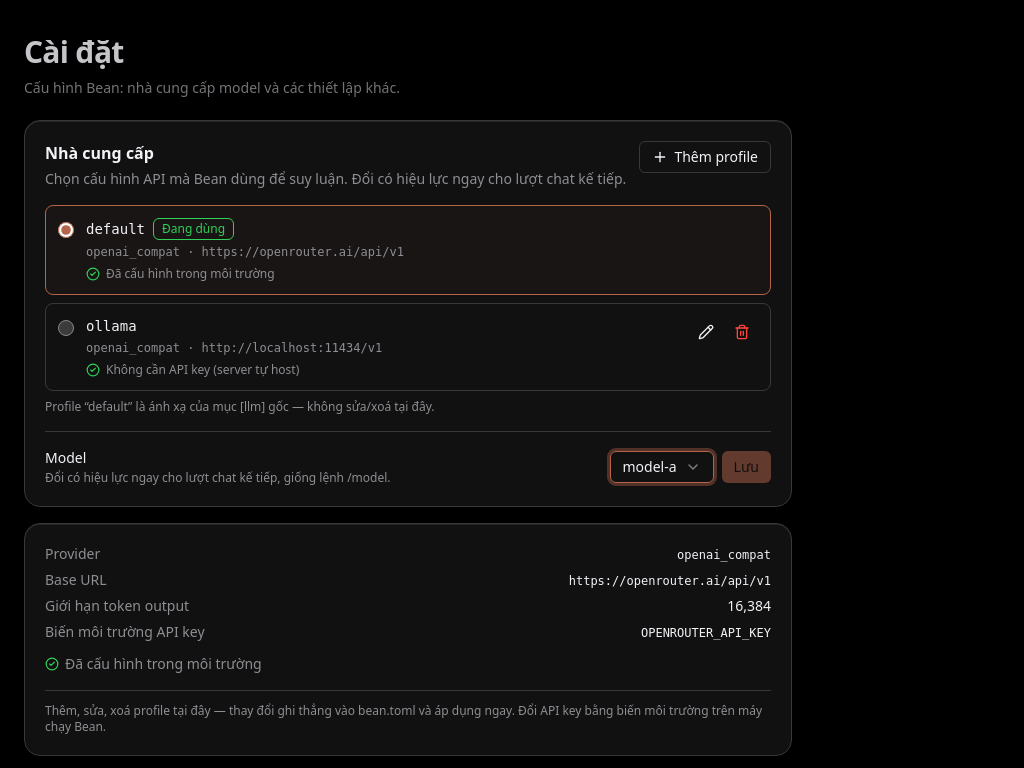
SettingsPage — Providers › chọn model khác rồi Lưu: PUT đúng body, hiện thông báo thành công
The width and height of the screenshot is (1024, 768).
Press Enter
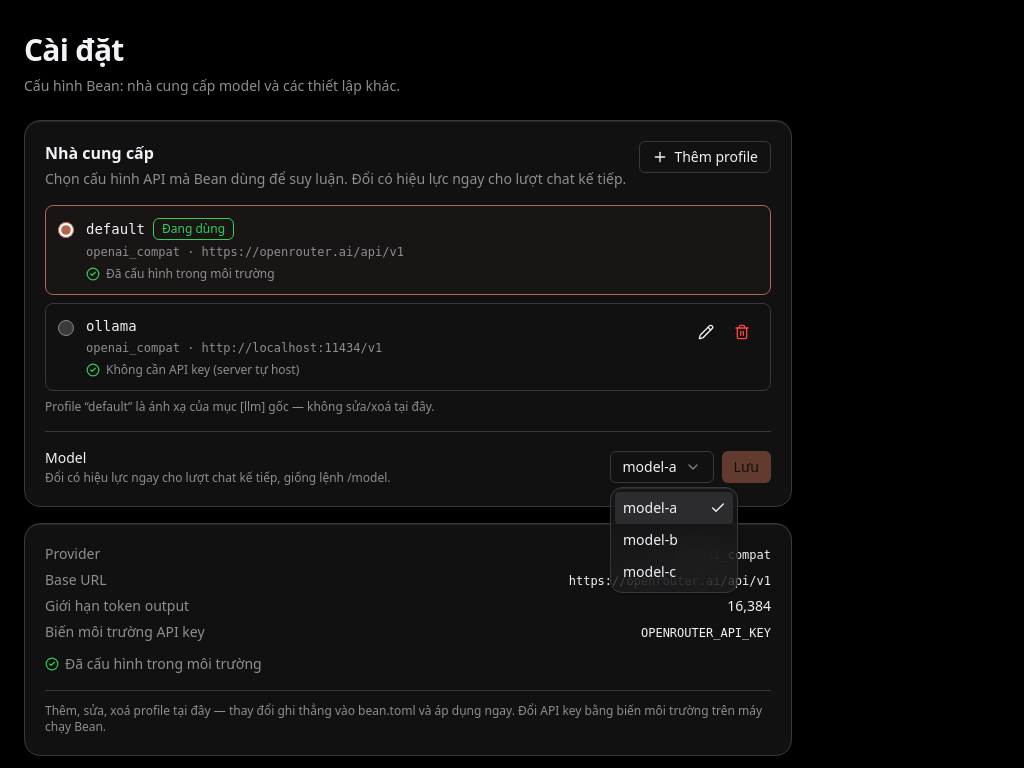
expect the option "model-b" is shown: met
Click the option "model-b".
click(650, 540)  # box [623,530,678,549]
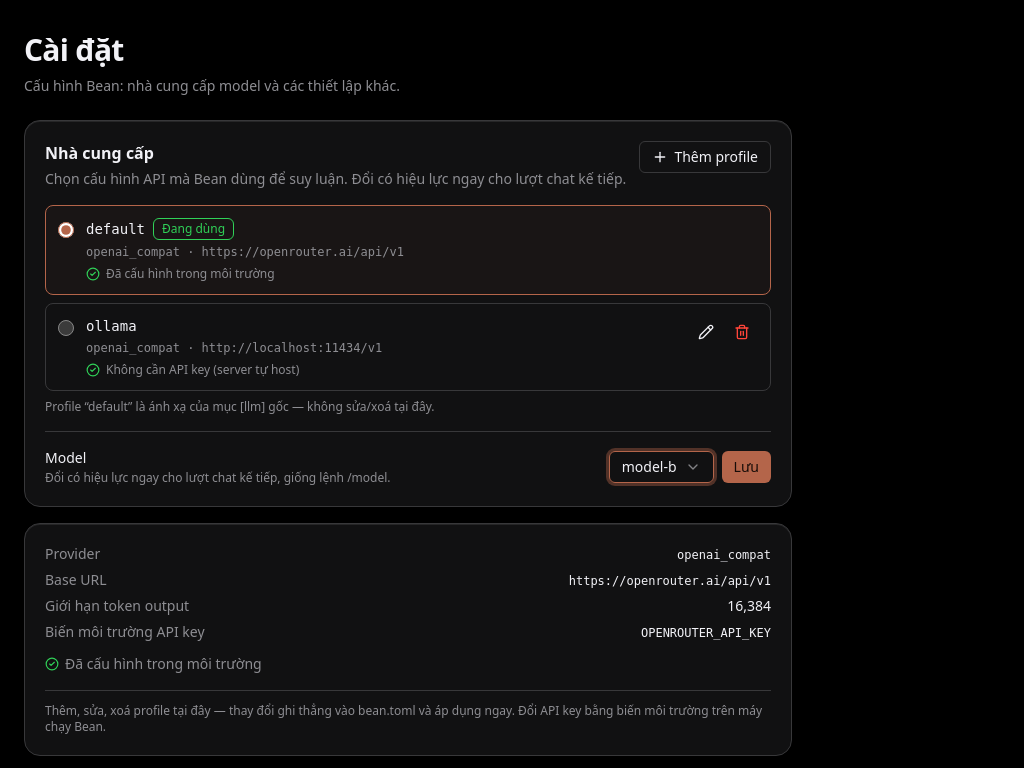
expect the button "Lưu" is enabled: met
Click the button "Lưu".
click(746, 467)  # box [722,451,771,483]
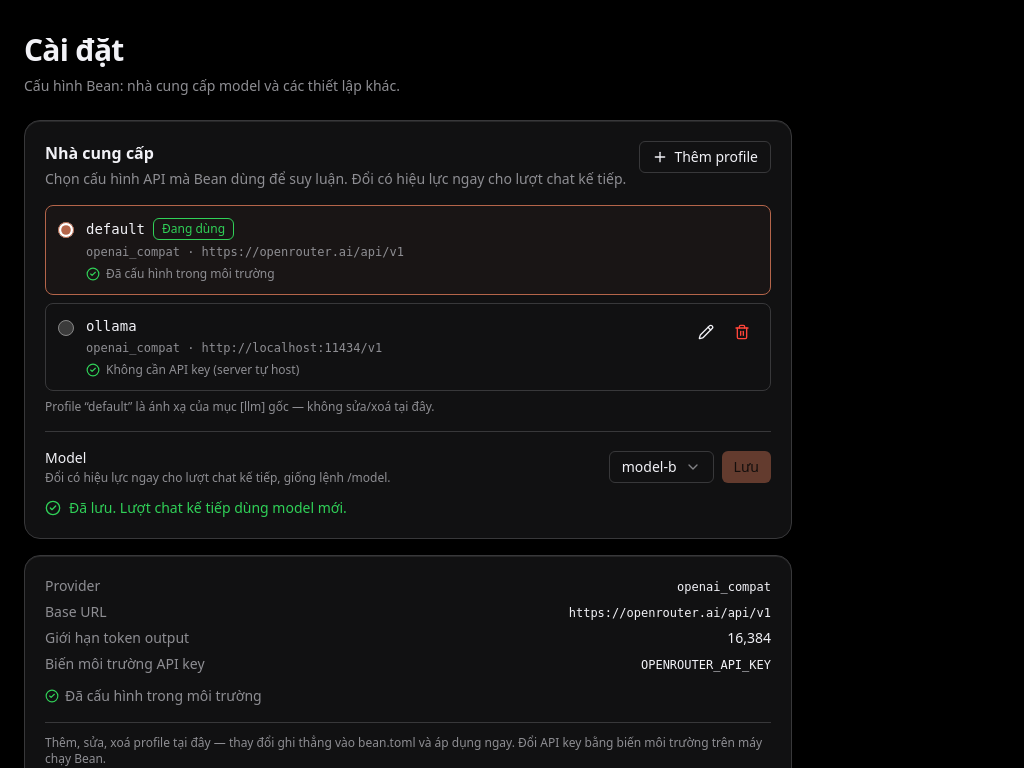
expect the dropdown labelled "model" reads "model-b": met, box [609,451,714,483]
expect the message "Đã lưu. Lượt chat kế tiếp dùng model mới." is shown: met, box [45,498,347,517]
